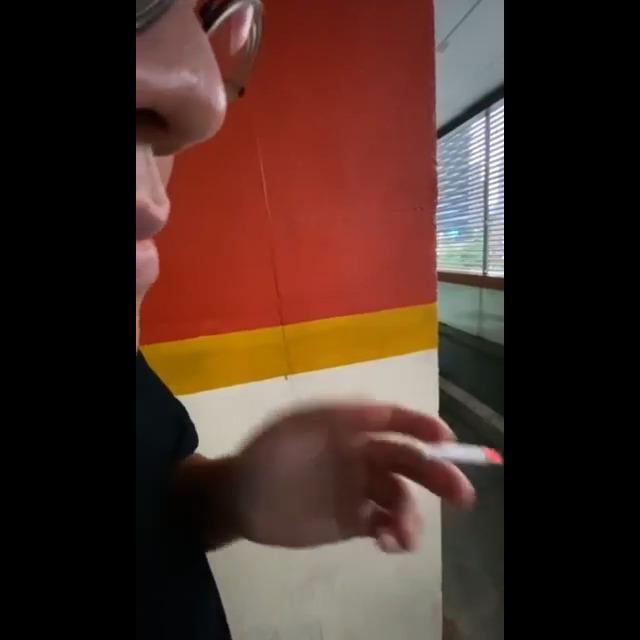rokok: (411, 428, 504, 476)
